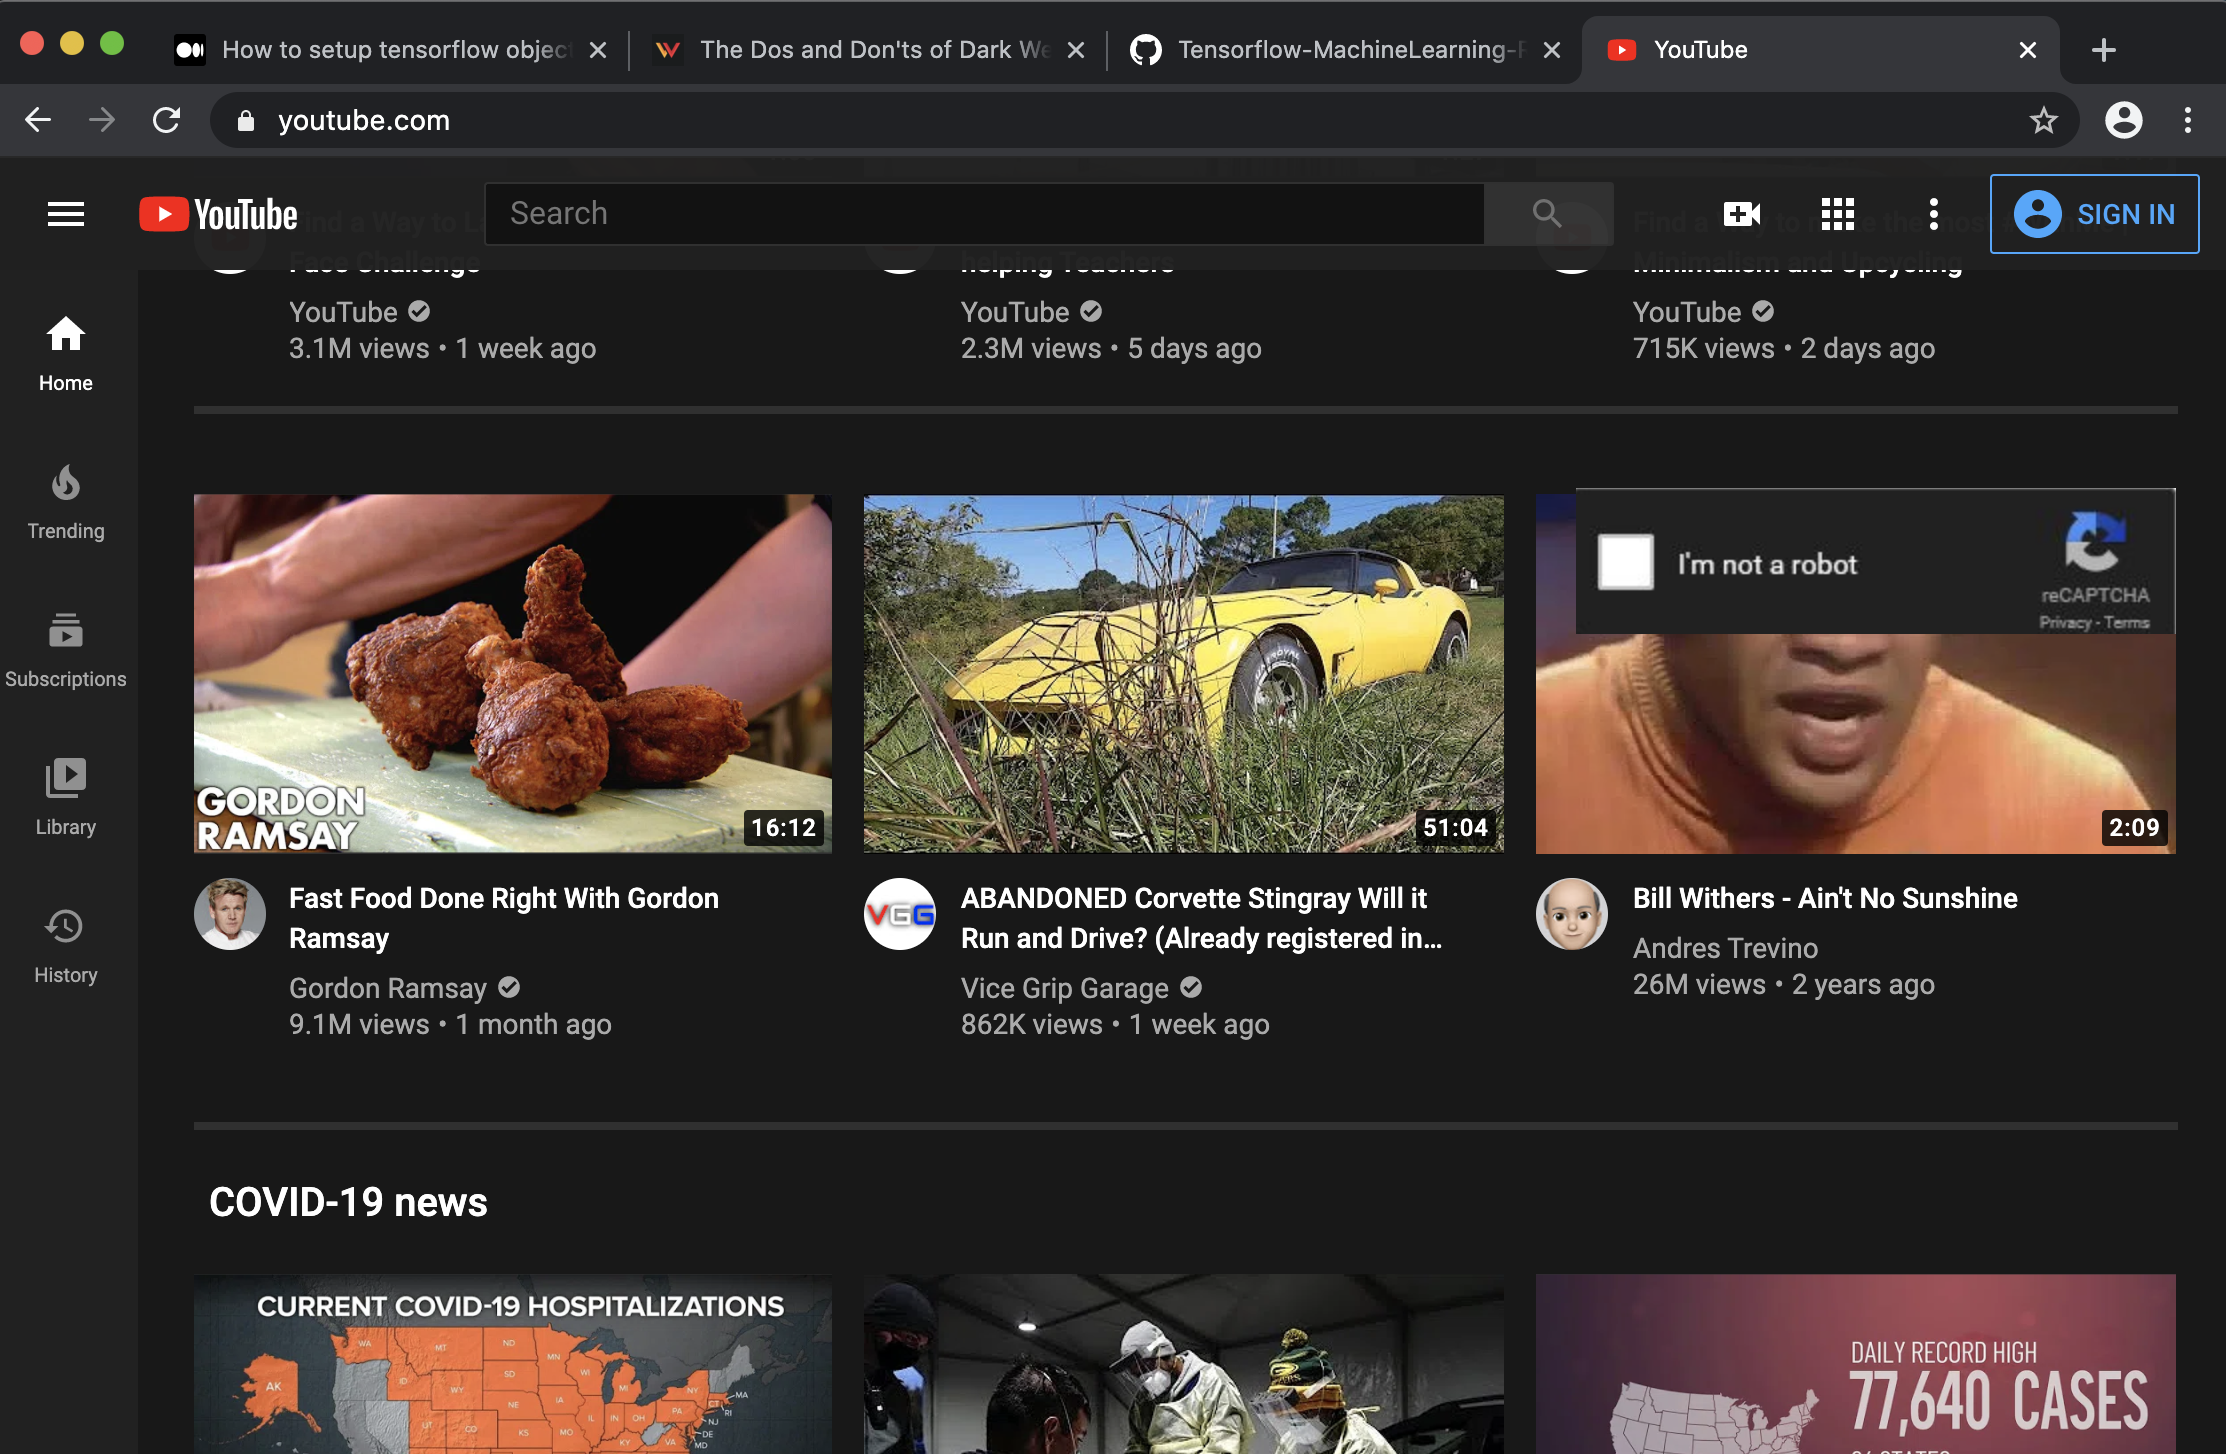captcha: (1562, 462, 2198, 664)
